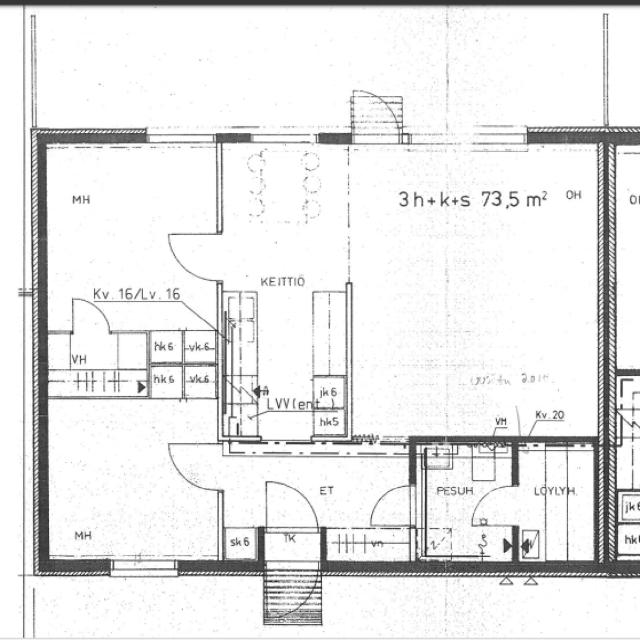door: (348, 88, 403, 146), (264, 478, 322, 532), (164, 228, 212, 282), (369, 481, 417, 529), (167, 440, 208, 492), (471, 483, 516, 527), (67, 297, 113, 340)
window: (106, 556, 183, 580), (142, 128, 220, 150), (245, 129, 320, 149), (263, 437, 291, 450), (312, 436, 339, 449)
zone: (46, 396, 220, 566), (41, 142, 221, 238), (419, 442, 518, 561), (516, 439, 600, 563), (245, 284, 314, 407), (44, 331, 152, 396), (613, 168, 639, 359), (262, 472, 324, 534), (323, 526, 417, 563), (311, 290, 349, 377), (610, 141, 640, 248), (614, 372, 640, 492), (443, 523, 518, 560), (612, 484, 639, 564), (258, 402, 313, 441), (220, 404, 258, 440), (148, 328, 184, 365), (182, 328, 218, 364), (222, 528, 261, 561), (183, 363, 219, 398), (148, 364, 183, 398), (312, 375, 347, 409), (310, 407, 347, 438), (615, 523, 640, 560), (616, 488, 640, 523)
